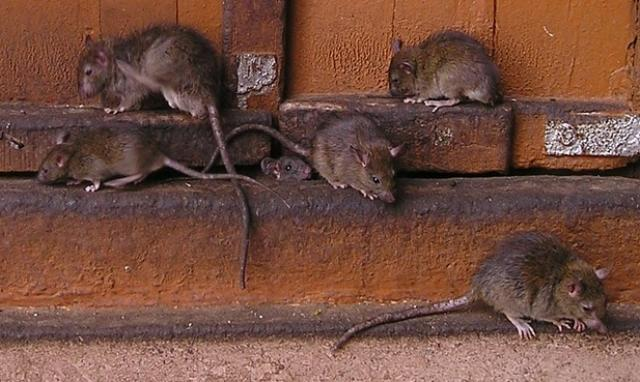rat: (397, 225, 618, 345), (66, 17, 232, 127), (271, 104, 413, 210), (32, 120, 212, 195), (385, 22, 513, 114)
